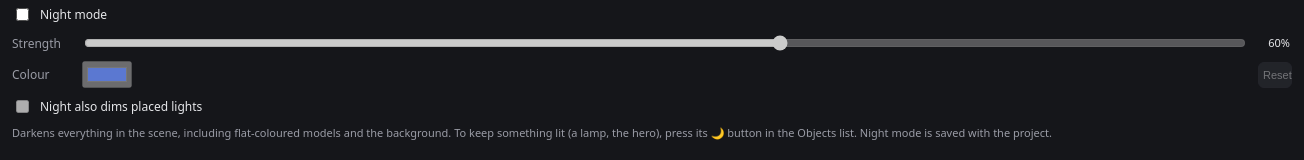
Scenario: Night mode: placed lights switch › is greyed out until Night mode itself is on
Check: the checkbox labelled "Night also dims placed lights" is disabled, box [16,100,29,113]
Click the checkbox labelled "Night mode".
click(22, 14)  # box [16,8,29,21]
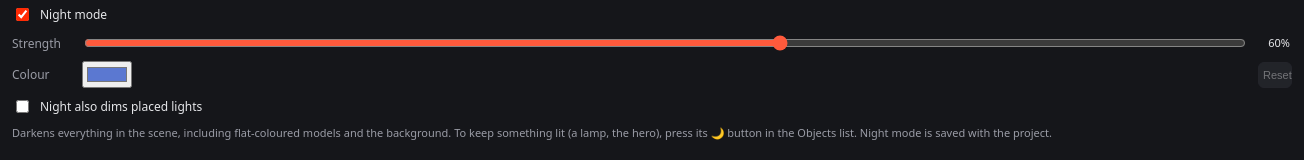
Check: the checkbox labelled "Night also dims placed lights" is enabled, box [16,100,29,113]
